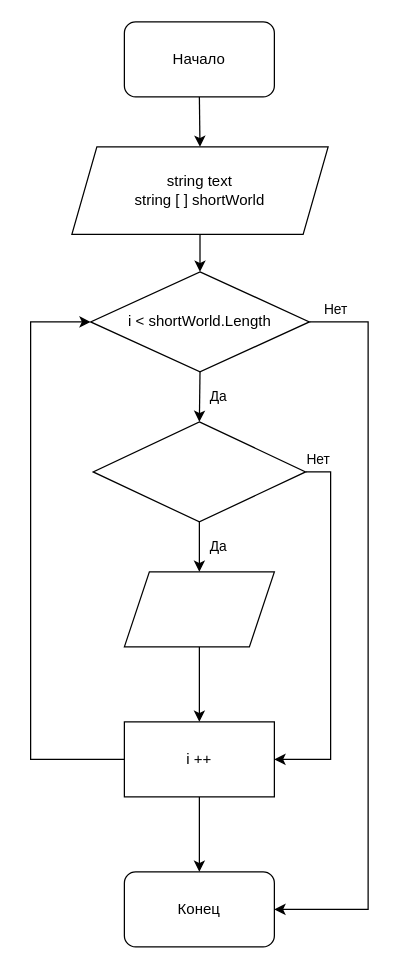
This 400x969 diagram has some shape labels left out. The shapes that lost their labels are listed below. From the top down, each one's box as (x1, y1, x2, y2) in pixels, then its label:
(92, 421, 306, 522): shortWorld[i].Length < 4
(123, 571, 274, 647): Console.Write[ i ]
